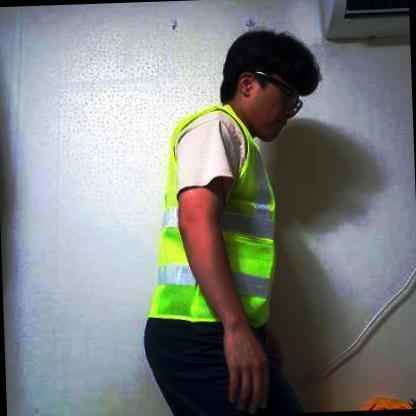no-helmet: (219, 24, 322, 107)
vest: (138, 101, 284, 334)
